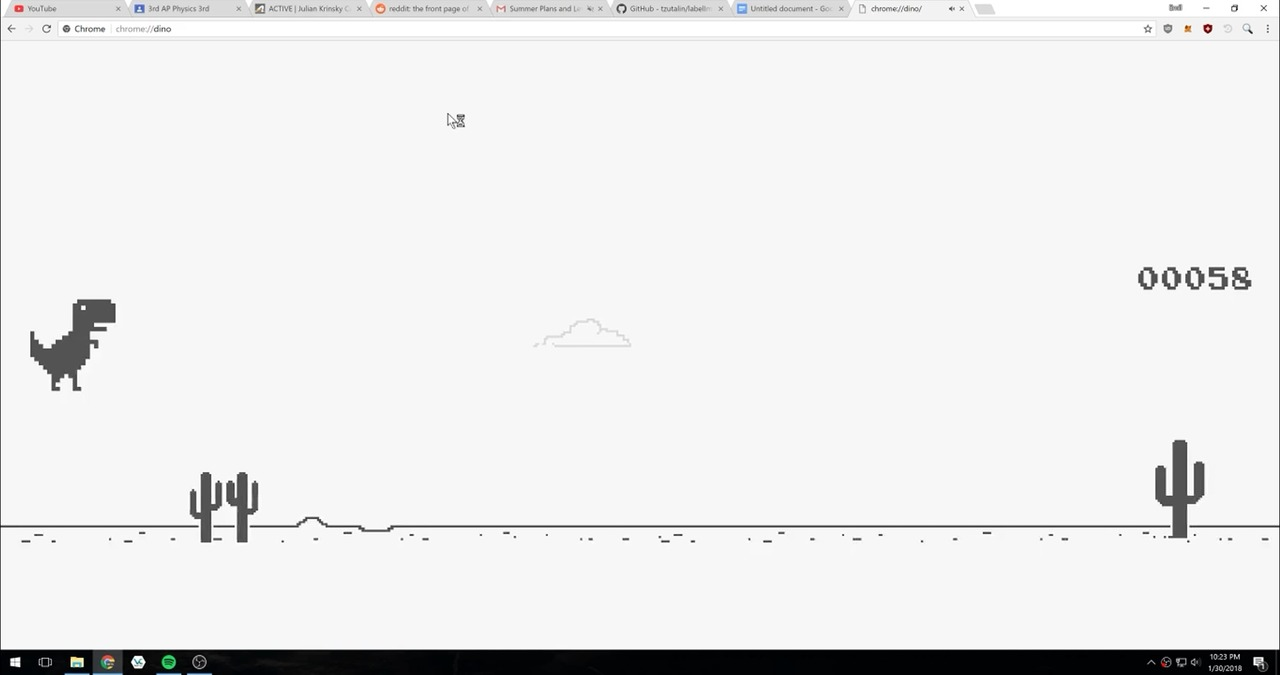cactus: (1151, 437, 1208, 543), (188, 467, 260, 545)
dinosaur: (28, 295, 120, 395)
